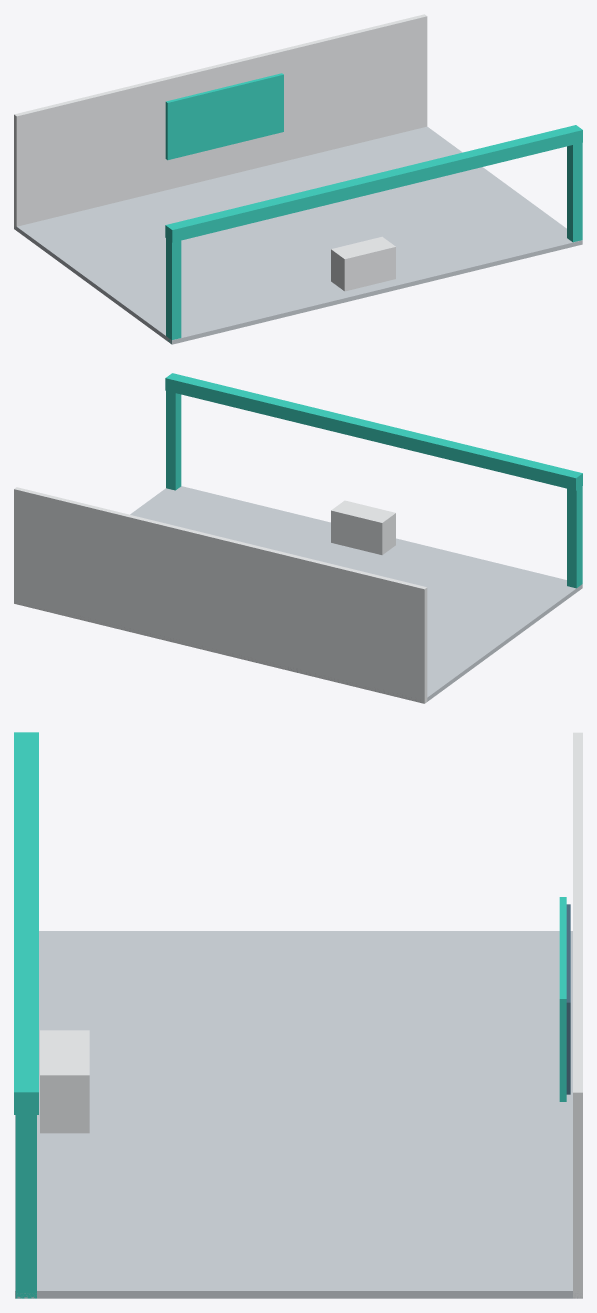
3 views of the same model, one above another, from view 1: azimuth 30°, elevation 25°; view 2: azimuth 150°, elevation 25°; view 3: azimuth 270°, elevation 25° (orthographic). The views are drawn at different scales.
Parts seen in each view (by area): view 1: Exhibition Booth Concept; view 2: Exhibition Booth Concept; view 3: Exhibition Booth Concept.
Part boxes in pixels (x1=…): Exhibition Booth Concept: x1=14, y1=14, x2=582, y2=344; Exhibition Booth Concept: x1=14, y1=373, x2=582, y2=703; Exhibition Booth Concept: x1=14, y1=732, x2=582, y2=1298.
Bounding box in the file's own units: 12 × 3.2 × 8.01.
